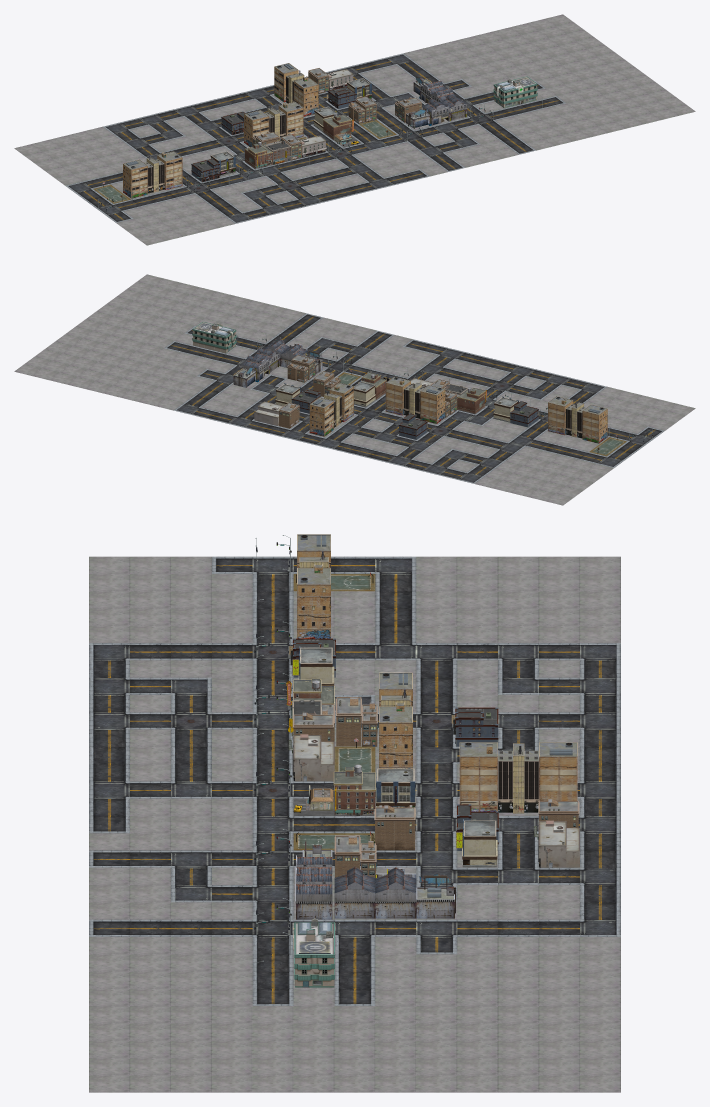
The model's file is city.fbx.
3 views of the same model, one above another, from view 1: azimuth 30°, elevation 25°; view 2: azimuth 150°, elevation 25°; view 3: azimuth 270°, elevation 25° (orthographic). The views are drawn at different scales.
Parts seen in each view (by area): view 1: BD_ConcreteBlock1, LM_Clinic2, pasted__pCube20.004, pasted__pCube27, pasted__pCube27.001, Filler_Apartments2, pasted__pCube20, pasted__pCube20.001, Filler_Apartments2.002, Filler_Apartments2.001, pasted__pCube27.004, LM_Basketball10 (+1 smaller); view 2: BD_ConcreteBlock1, LM_Clinic2, pasted__pCube27, pasted__pCube27.001, pasted__pCube27.004, pasted__pCube20.001, Filler_Apartments2.001, Filler_Apartments2, pasted__pCube20, pasted__pCube20.004, Filler_Apartments2.002, LM_Basketball9; view 3: BD_ConcreteBlock1, LM_Clinic2, pasted__pCube20.004, pasted__pCube27.004, pasted__pCube20.001, pasted__pCube20, Filler_Apartments2.001, Filler_SalsT8_group8_pCube11, pasted__pCube2.001, pasted__pCube3.001, pasted__pCube1.003, LM_Basketball11 (+7 smaller).
Boxes of the visible parts, x1,y1,x2,y2 form: BD_ConcreteBlock1: [14, 14, 695, 245]; LM_Clinic2: [493, 76, 537, 107]; pasted__pCube20.004: [294, 77, 318, 109]; pasted__pCube27: [123, 159, 147, 191]; pasted__pCube27.001: [244, 110, 269, 141]; Filler_Apartments2: [191, 158, 219, 182]; pasted__pCube20: [157, 151, 182, 183]; pasted__pCube20.001: [278, 101, 303, 133]; Filler_Apartments2.002: [326, 86, 356, 108]; Filler_Apartments2.001: [221, 111, 245, 135]; pasted__pCube27.004: [274, 63, 298, 95]; LM_Basketball10: [359, 117, 396, 138]; BD_ConcreteBlock1: [14, 274, 695, 505]; LM_Clinic2: [192, 321, 236, 353]; pasted__pCube27: [582, 404, 607, 436]; pasted__pCube27.001: [420, 385, 445, 417]; pasted__pCube27.004: [309, 397, 333, 429]; pasted__pCube20.001: [385, 376, 410, 408]; Filler_Apartments2.001: [398, 413, 427, 439]; Filler_Apartments2: [510, 401, 539, 427]; pasted__pCube20: [548, 396, 573, 428]; pasted__pCube20.004: [329, 383, 353, 415]; Filler_Apartments2.002: [291, 389, 320, 413]; LM_Basketball9: [589, 434, 626, 456]; BD_ConcreteBlock1: [89, 556, 620, 1092]; LM_Clinic2: [293, 918, 334, 987]; pasted__pCube20.004: [459, 742, 497, 800]; pasted__pCube27.004: [539, 742, 577, 800]; pasted__pCube20.001: [379, 706, 412, 766]; pasted__pCube20: [297, 568, 330, 628]; Filler_Apartments2.001: [451, 707, 498, 746]; Filler_SalsT8_group8_pCube11: [375, 821, 414, 850]; pasted__pCube2.001: [334, 893, 375, 918]; pasted__pCube3.001: [375, 893, 416, 918]; pasted__pCube1.003: [416, 887, 454, 918]; LM_Basketball11: [334, 738, 375, 772].
Size of the model in its own units: 55800 by 3186 by 23400.
